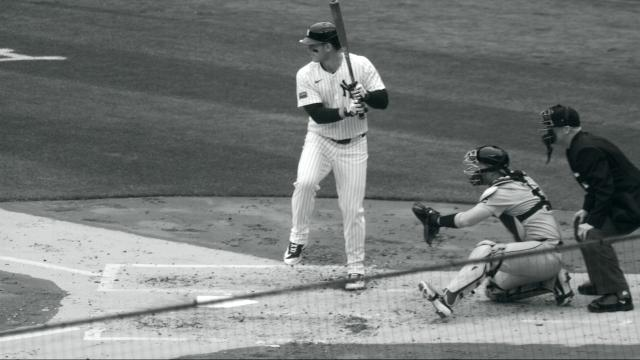bat: (330, 0, 356, 88)
